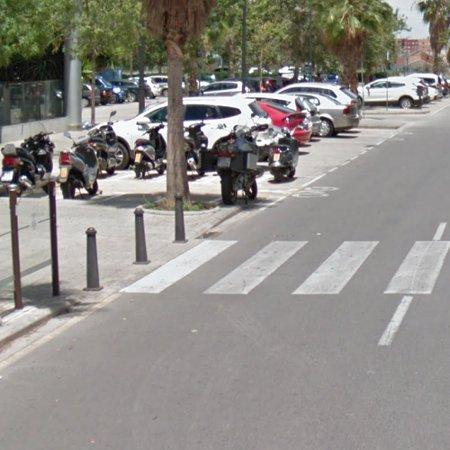crosswalks: (117, 237, 450, 296)
